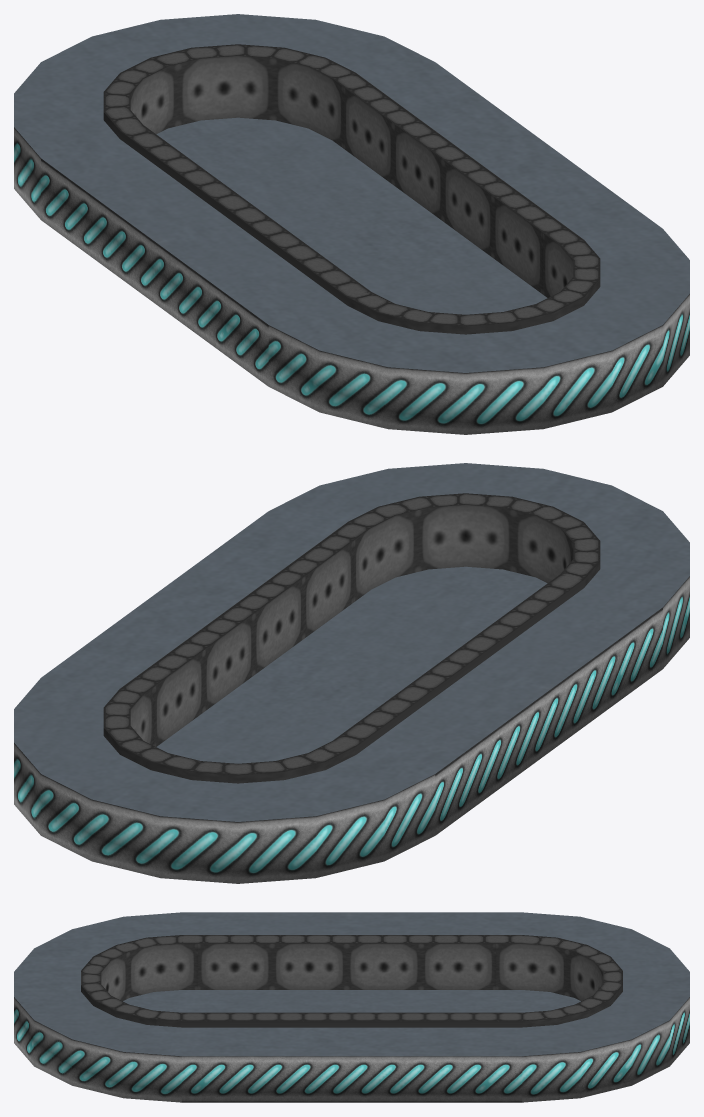
File: Lamp02.fbx
The picture shows the model from 3 angles, top to bottom: view 1: azimuth 30°, elevation 25°; view 2: azimuth 150°, elevation 25°; view 3: azimuth 270°, elevation 25°; orthographic projection. The views are drawn at different scales.
Parts seen in each view (by area): view 1: Lamp02; view 2: Lamp02; view 3: Lamp02.
Part boxes in pixels (x1,y1,x2,y2): Lamp02: [14, 14, 689, 434]; Lamp02: [14, 463, 689, 883]; Lamp02: [14, 912, 689, 1102].
Size of the model in its own units: 100 by 17 by 198.
